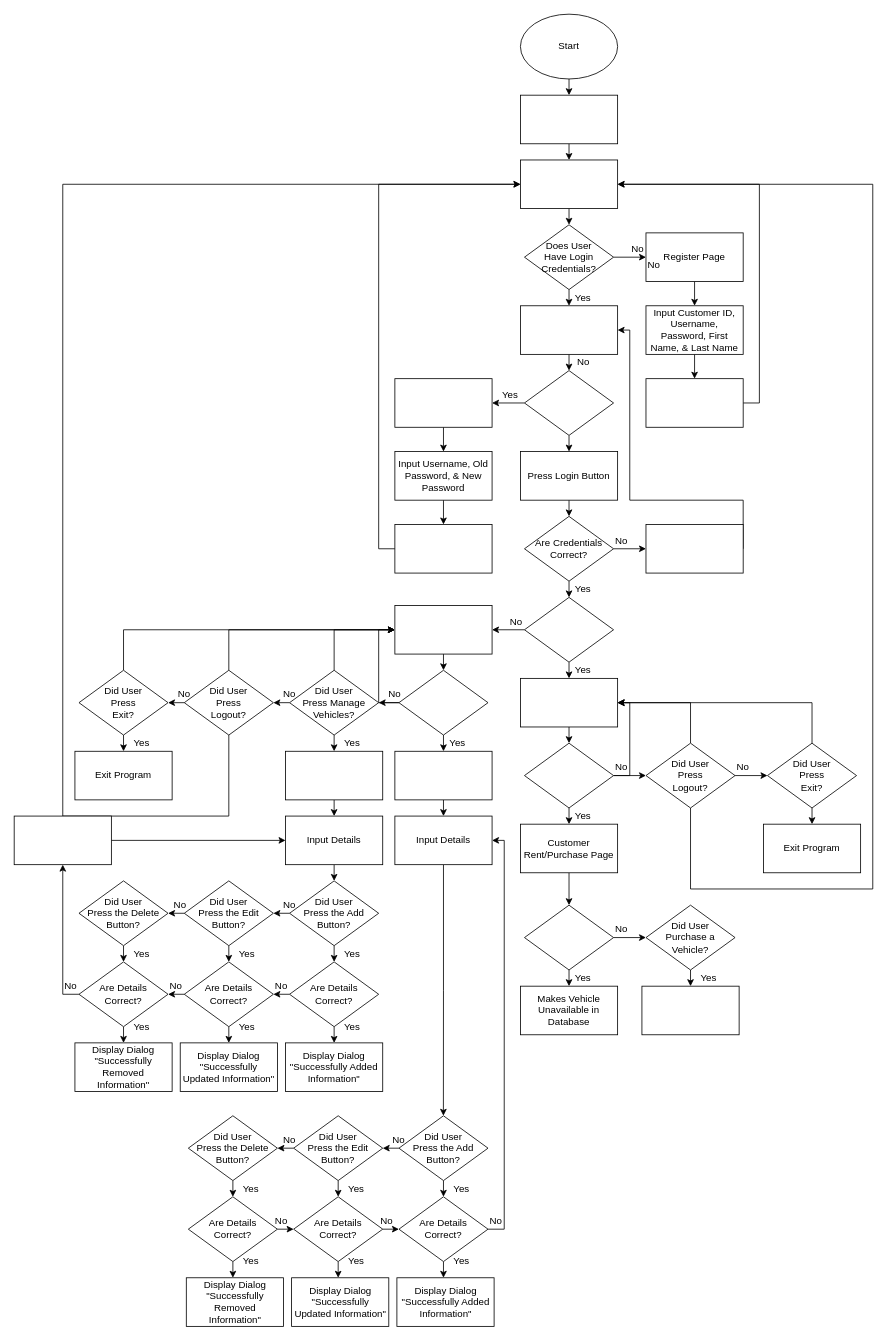
The diagram is 893 pixels wide and 1341 high, and some of its shapes have lost their labels. Each missing label, with the centre of its shape:
Admin Main Menu Page: point 443,629
Connected to Database: point 569,119
Customer Main Menu Page: point 569,702
Did User Press Manage Users?: point 443,702
Did User Press Vehicle?: point 569,775
Did User Rent a Vehicle?: point 569,937
Display Dialog "An Error Occured": point 62,840
Display Dialog "Login Failed, Please Try Again!": point 694,548
Has User Forgotten Their Password?: point 569,402
Input Username, Password & Role: point 569,329
Is User a Customer?: point 569,629
Login Page: point 569,184
Manage Users Page: point 443,775
Manage Vehicles Page: point 334,775
Press Register Button (Adds User to Database): point 694,402
Press Reset Button (Updates Password on Database): point 443,548
Removes Vehicles from the Database Altogether: point 690,1010
Reset Page: point 443,402
